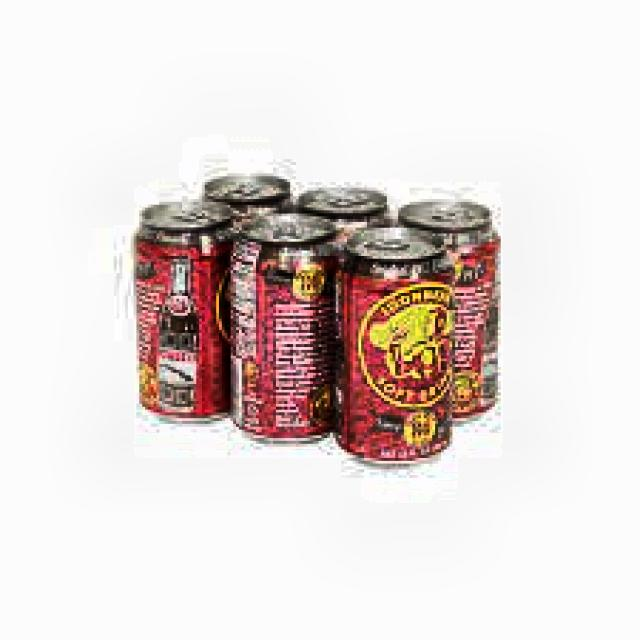can: (336, 225, 455, 456), (229, 209, 344, 446), (391, 193, 504, 431), (128, 197, 240, 426), (290, 182, 398, 238), (194, 166, 298, 222)
